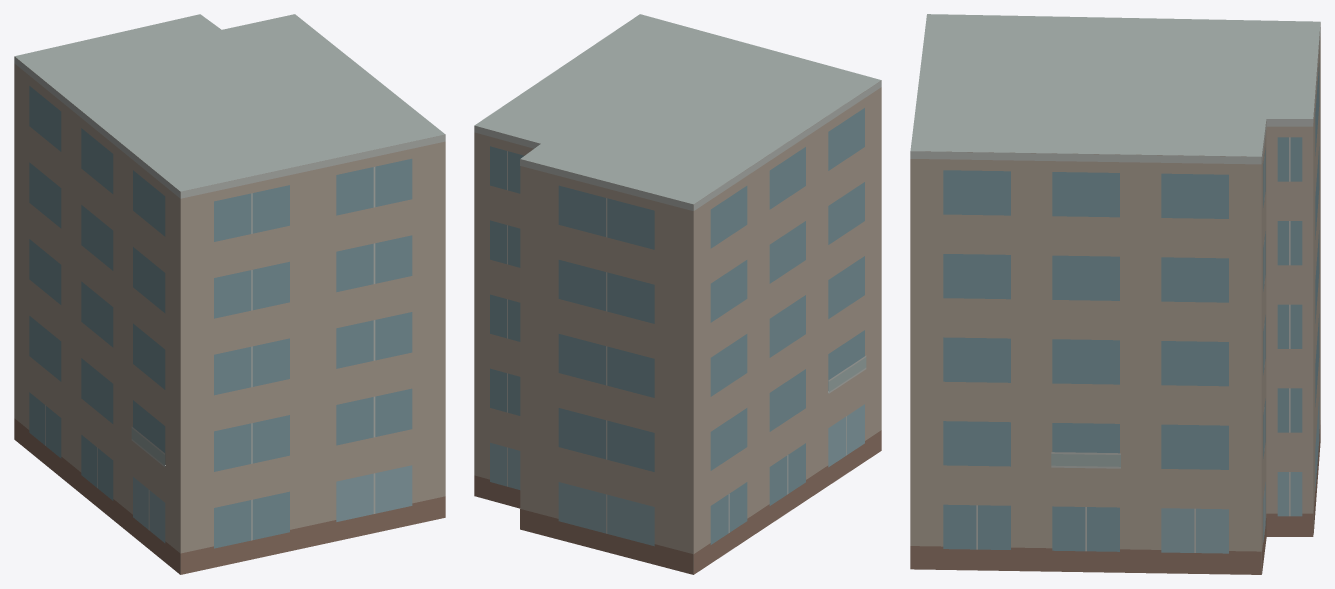
The model's file is survey-upis-32947495.glb.
3 renders of one model, left to right at view 1: azimuth 30°, elevation 25°; view 2: azimuth 150°, elevation 25°; view 3: azimuth 270°, elevation 25°, orthographic. The views are drawn at different scales.
Visible parts, largest first — view 1: survey-upis-32947495.tmp; view 2: survey-upis-32947495.tmp; view 3: survey-upis-32947495.tmp.
Part boxes in pixels (x1=…): survey-upis-32947495.tmp: x1=14, y1=14, x2=445, y2=574; survey-upis-32947495.tmp: x1=474, y1=14, x2=881, y2=574; survey-upis-32947495.tmp: x1=910, y1=14, x2=1320, y2=574.
Bounding box in the file's own units: 9.67 × 13.2 × 11.75.
